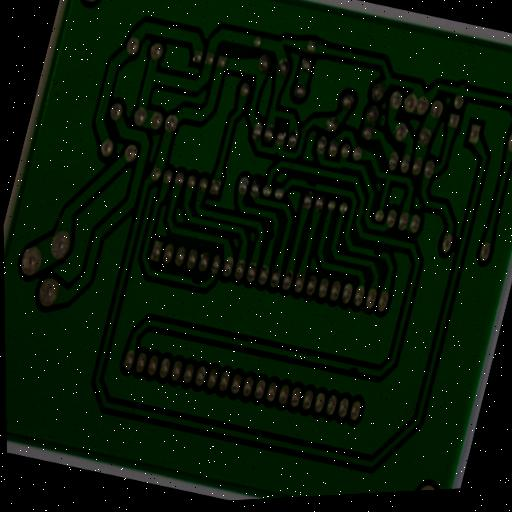mouse_bite: (343, 360, 361, 378), (263, 224, 279, 244), (187, 272, 204, 290), (303, 175, 320, 192), (369, 243, 386, 260)
